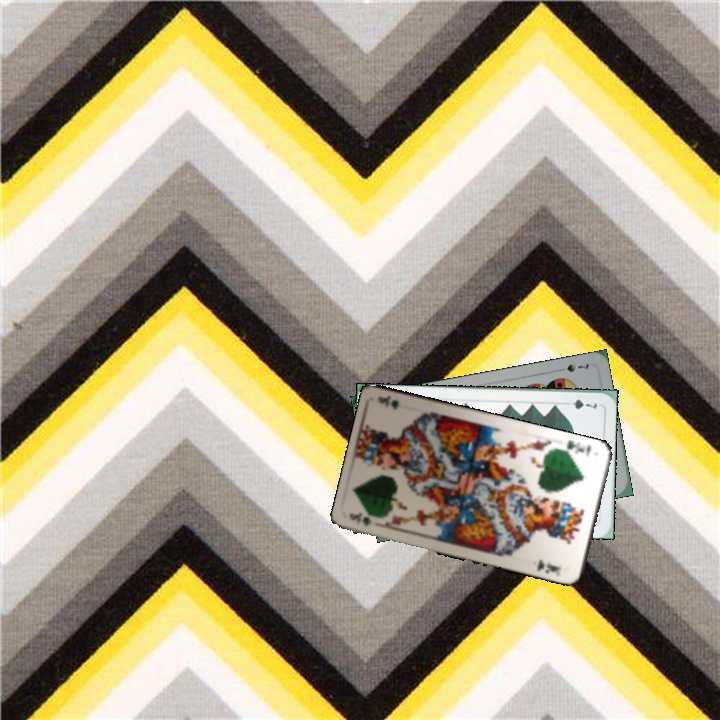G7: (560, 395, 600, 413)
GK: (556, 436, 593, 459), (346, 509, 387, 529)
S7: (562, 359, 591, 375)
